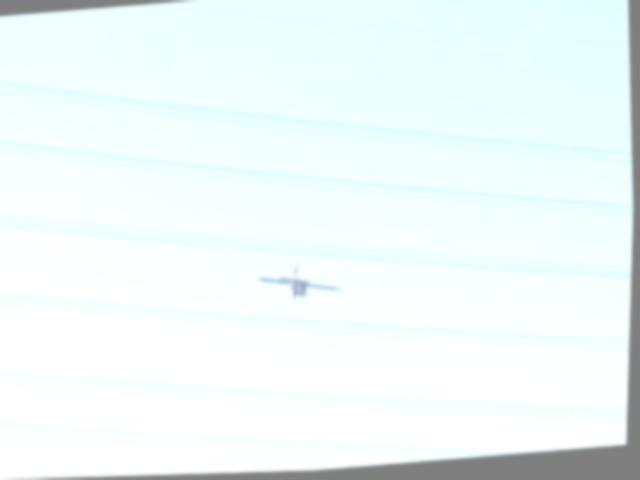uav: (254, 258, 348, 310)
